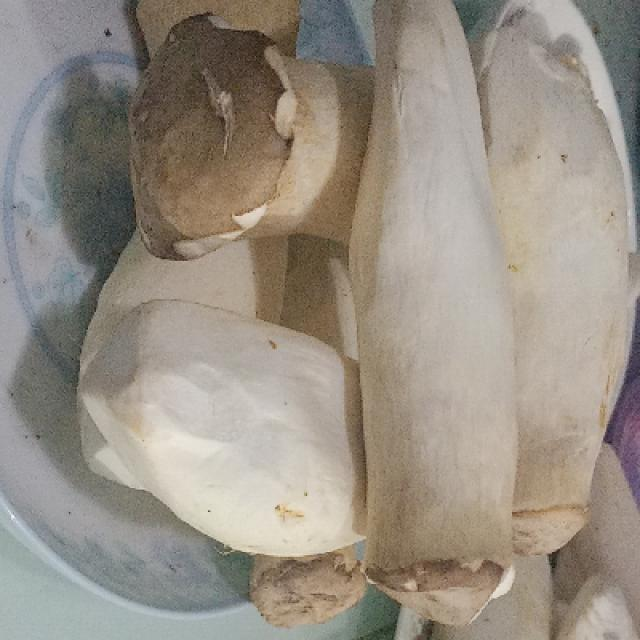Pleurotus eryngii: (75, 0, 637, 624)
